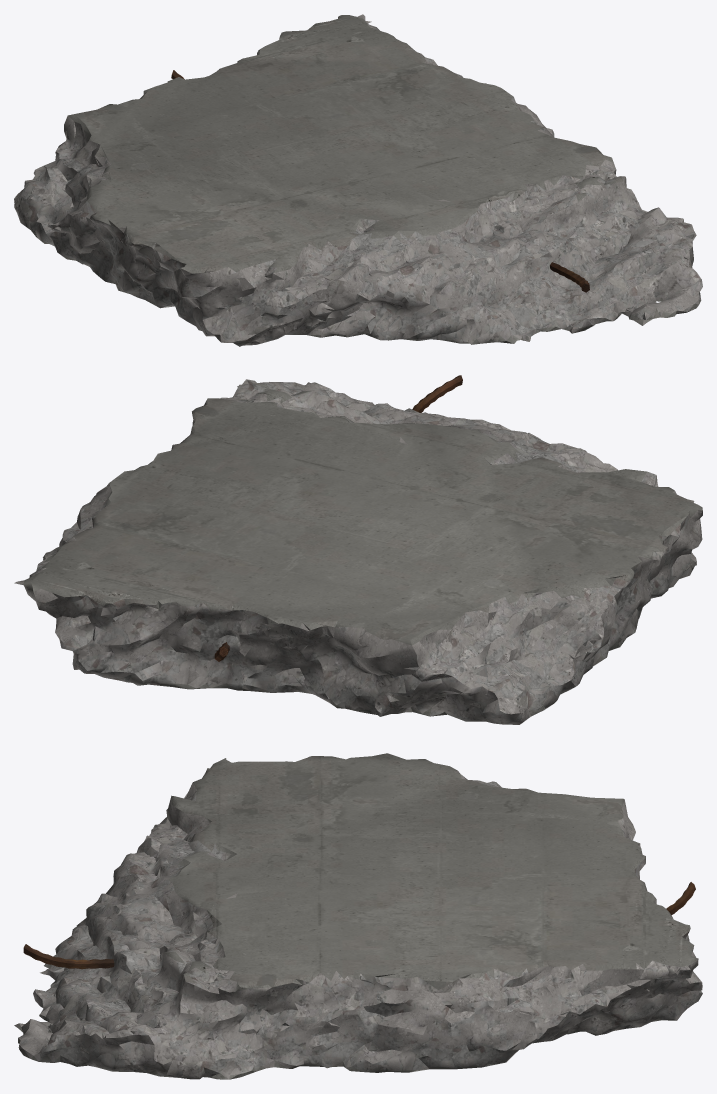
File: concrete_chunk_c.glb
3 views of the same model, one above another, from view 1: azimuth 30°, elevation 25°; view 2: azimuth 150°, elevation 25°; view 3: azimuth 270°, elevation 25° (orthographic). The views are drawn at different scales.
Parts seen in each view (by area): view 1: concrete_chunk_c; view 2: concrete_chunk_c, rebar; view 3: concrete_chunk_c, rebar.
Boxes of the visible parts, box(x1,y1,x2,y2) form: concrete_chunk_c: box(14, 14, 702, 346); concrete_chunk_c: box(14, 379, 702, 724); rebar: box(214, 375, 462, 661); concrete_chunk_c: box(14, 753, 702, 1079); rebar: box(23, 882, 695, 969).
Size of the model in its own units: 1.32 by 0.1913 by 1.5.
Materials: 3 (3 with a texture image).
